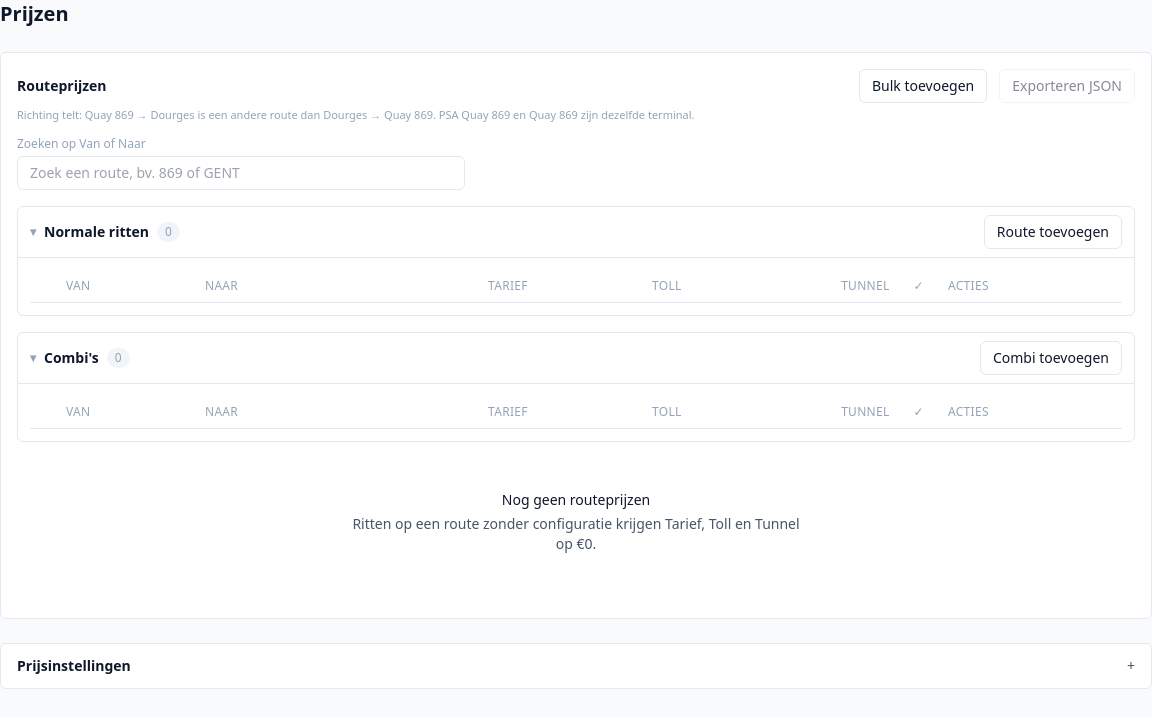
choosing what kind of route to add › opens the two-leg form when Combination is chosen
Click the button "Combi toevoegen". click: point(1051, 358)
box: [980,340,1122,374]
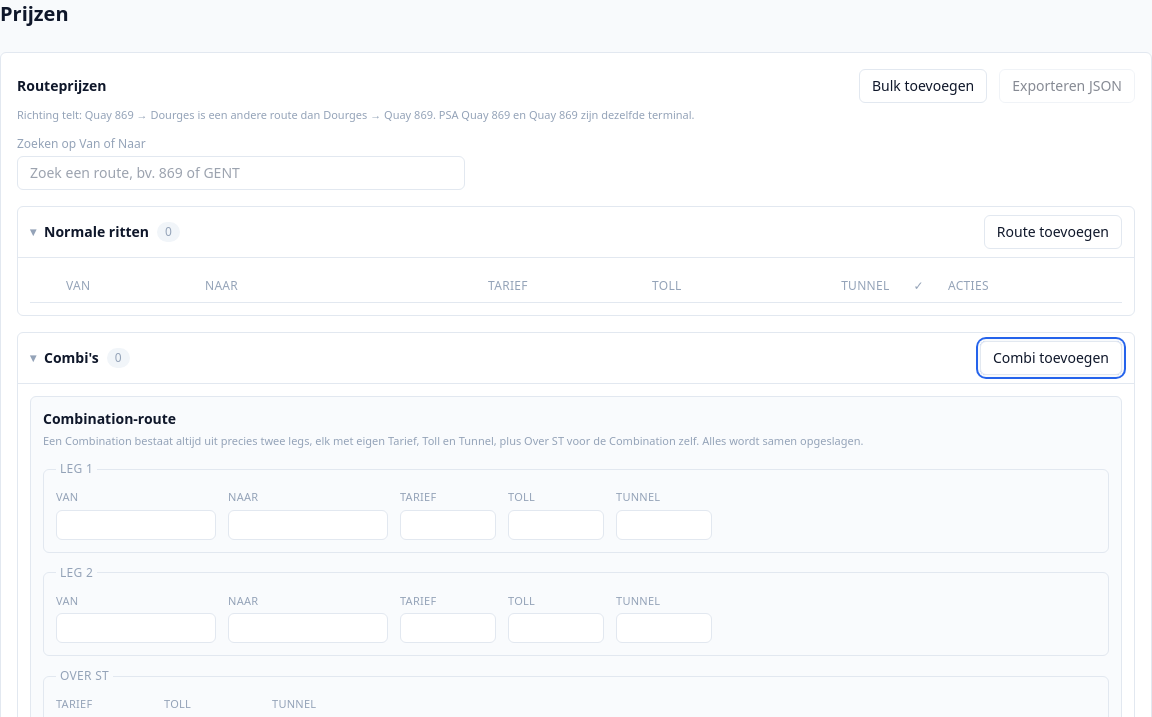
Now the field named "Leg 1: Van" is shown, box [56,510,216,540]
Now the field named "Leg 2: Van" is shown, box [56,613,216,643]
